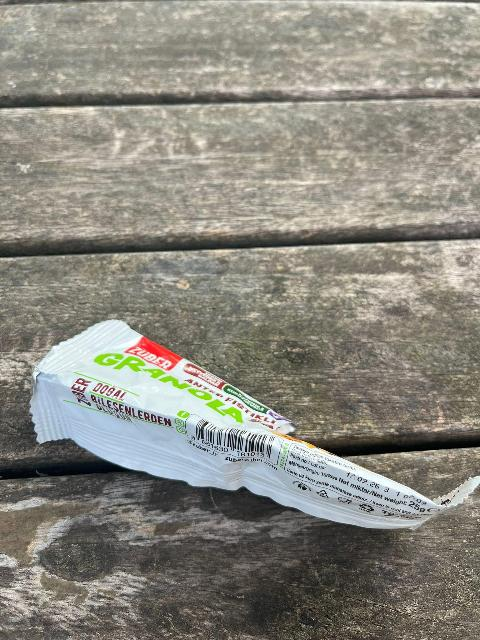Plastik: (22, 314, 480, 544)
